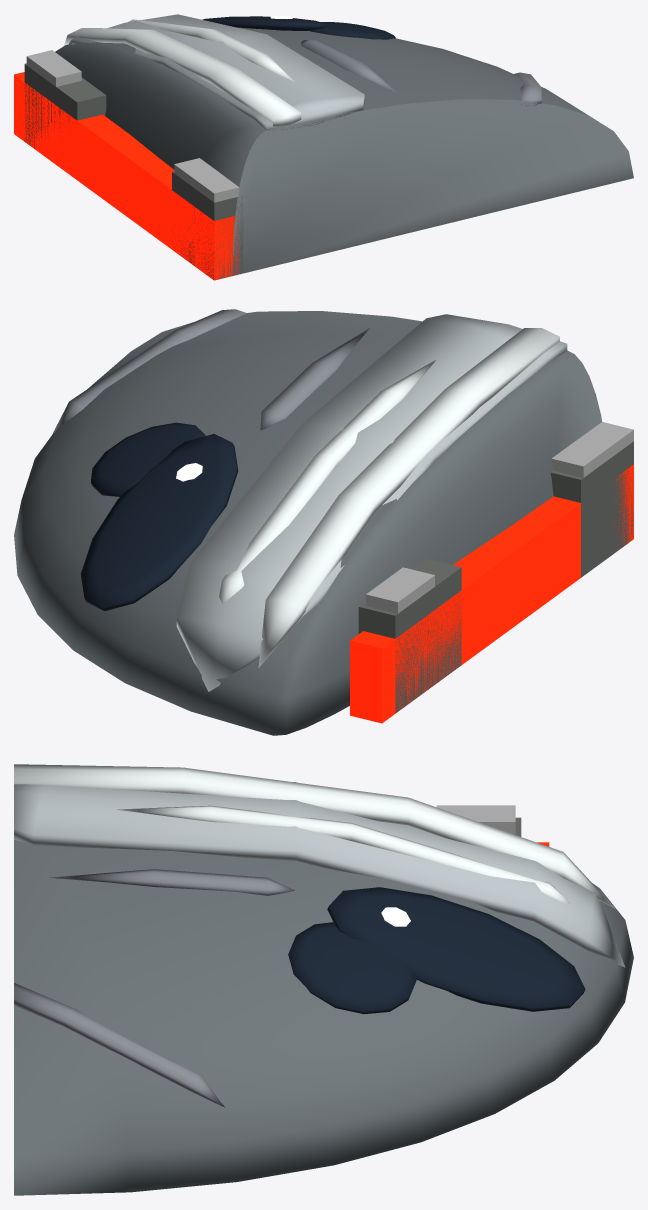
Rendered from newsha-9.glb.
3 renders of one model, top to bottom at view 1: azimuth 30°, elevation 25°; view 2: azimuth 150°, elevation 25°; view 3: azimuth 270°, elevation 25°, orthographic. The views are drawn at different scales.
Visible parts, largest first — view 1: newsha-9; view 2: newsha-9; view 3: newsha-9.
Boxes of the visible parts, <box> form: newsha-9: <box>14,14,633,280</box>; newsha-9: <box>14,309,633,735</box>; newsha-9: <box>14,764,633,1195</box>.
Size of the model in its own units: 1.92 by 0.6545 by 1.83.
